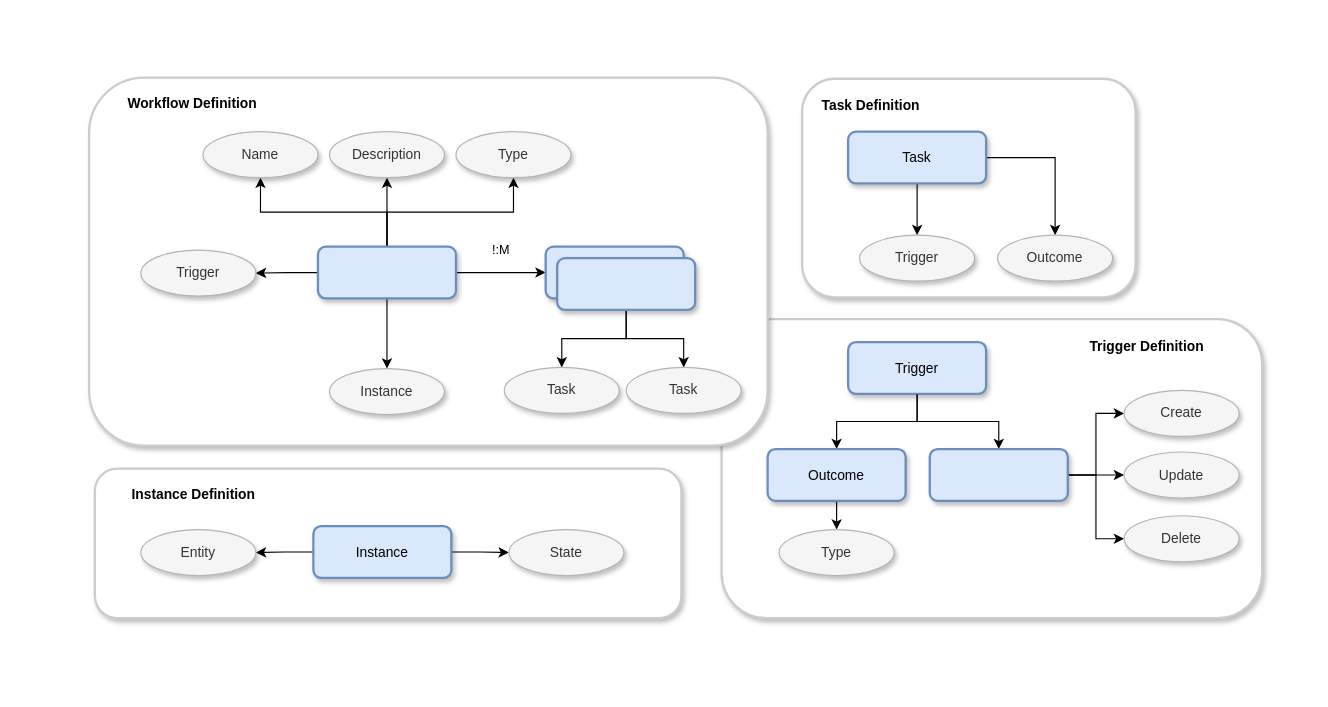
Some shapes in this 1328 by 707 pixel diagram are drawn without their labels. The centre of each missing label's shape, as x and y in pixels:
"EntityAction" goes at pixel 999 476.
"Transition" goes at pixel 627 285.
"Workflow" goes at pixel 387 273.
